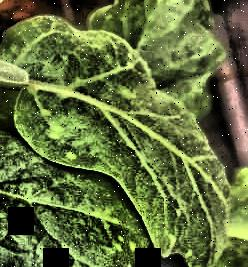HEALTHY: (0, 0, 247, 267)
